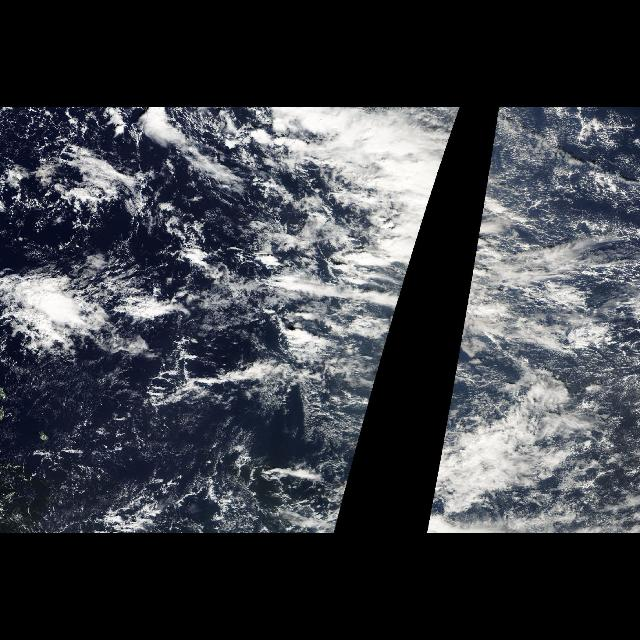Gravel: (2, 411, 314, 531), (2, 108, 174, 236)
